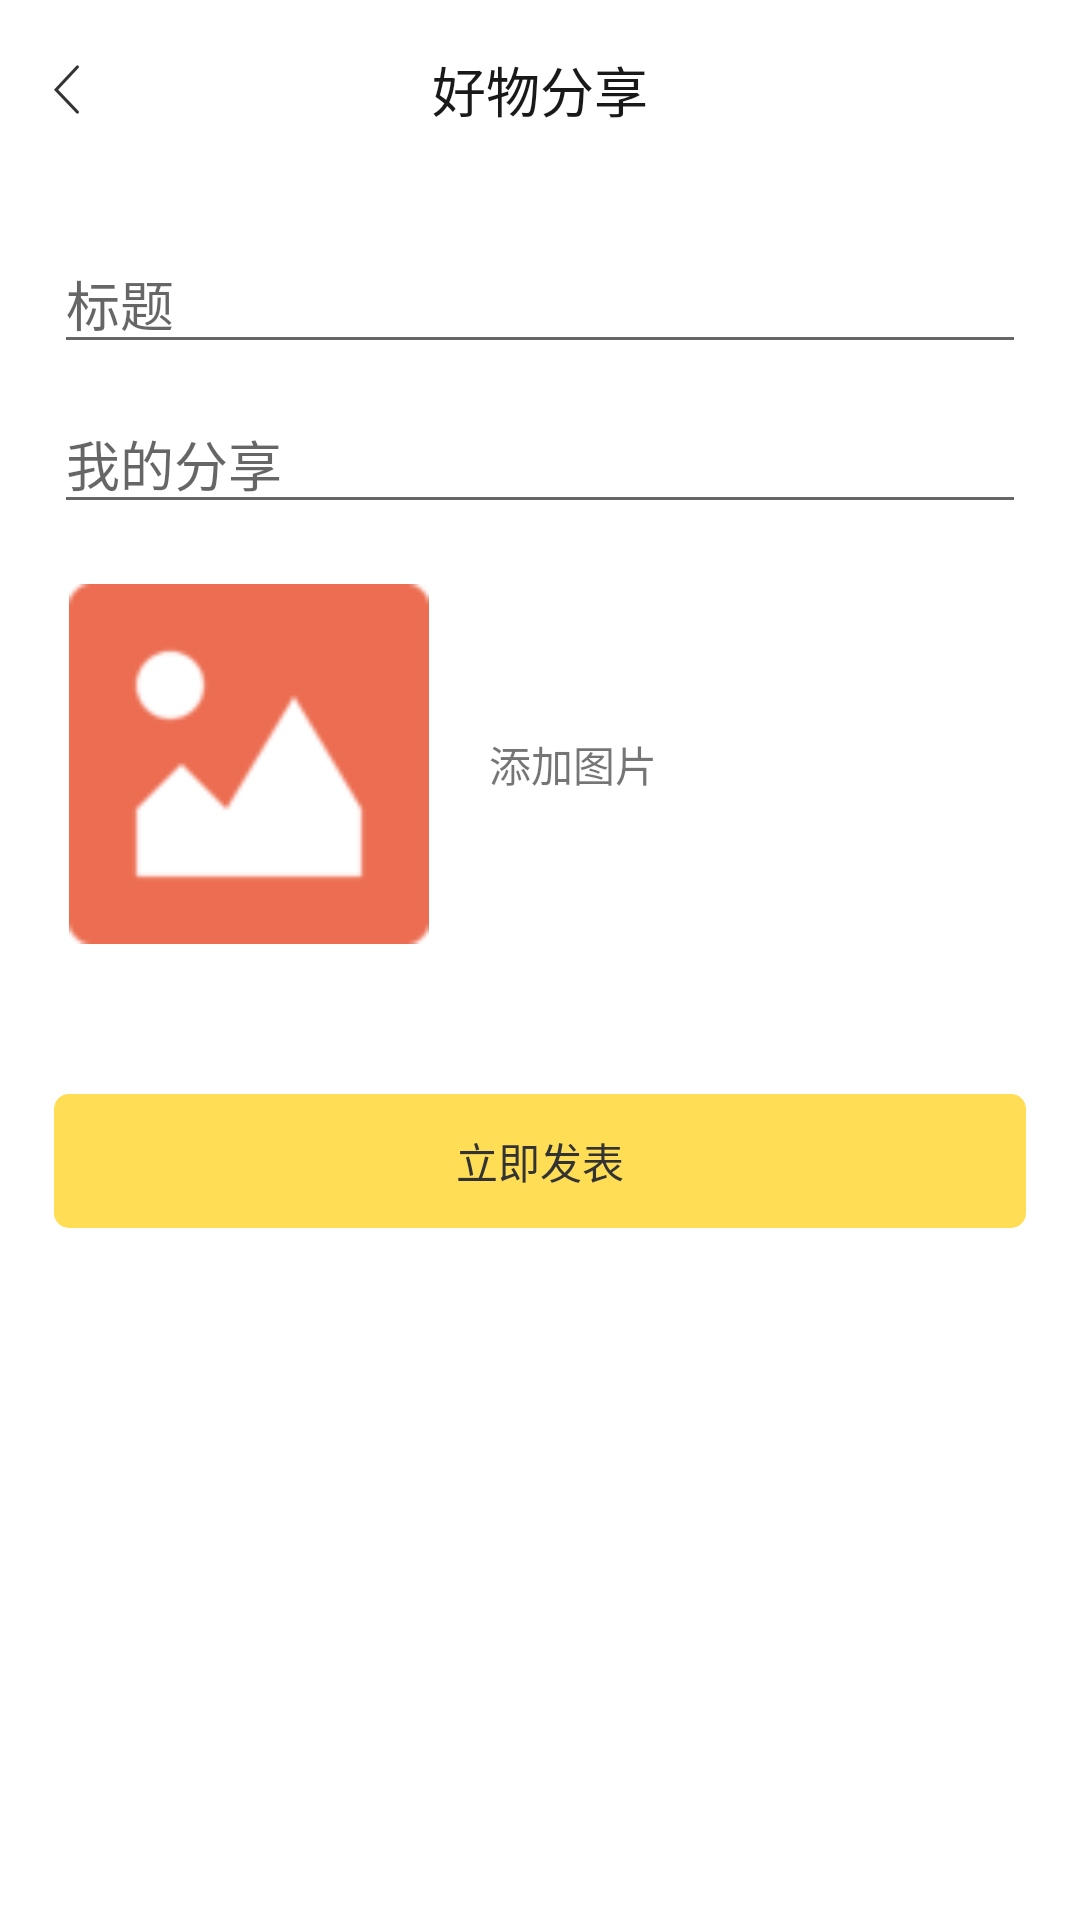

Named icons in this screenshot (1080x1920) and their bounding boxes, (x1, y1, x2, y2):
back: (54, 65, 79, 114)
